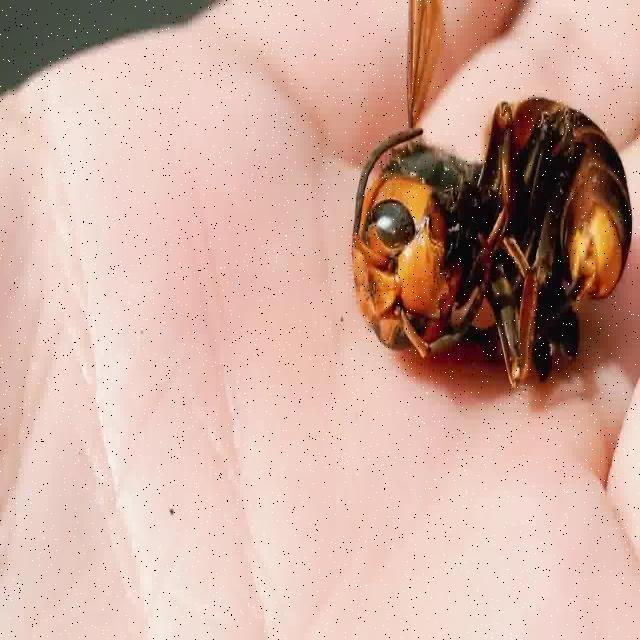Wasp: (350, 2, 632, 396)
